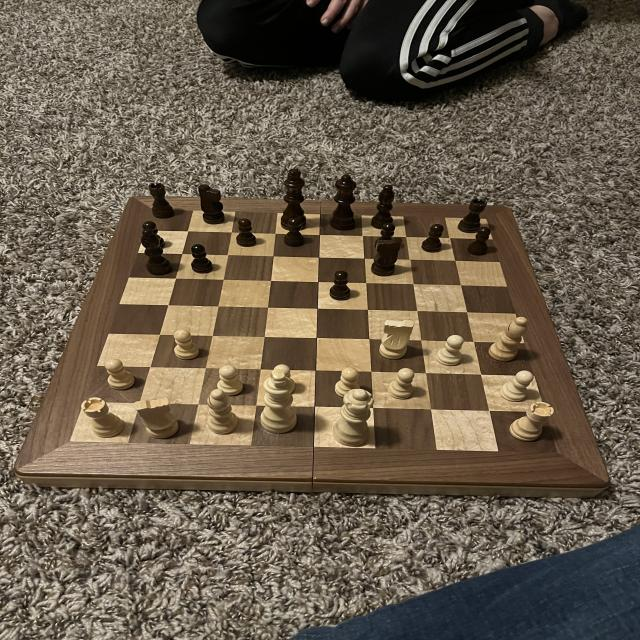bishop: (137, 226, 176, 276), (369, 184, 401, 231)
black-bishop: (278, 166, 309, 233)
black-king: (192, 183, 234, 228), (367, 235, 406, 278)
black-knight: (324, 271, 357, 303), (465, 225, 496, 259), (279, 216, 310, 250), (370, 221, 400, 252), (186, 242, 215, 274), (140, 218, 170, 248), (233, 217, 262, 248), (421, 223, 449, 254)
black-pawn: (326, 174, 364, 231)
black-queen: (457, 197, 487, 236), (148, 182, 175, 220)
black-rook: (484, 315, 533, 363), (202, 388, 245, 440)
white-bishop: (260, 373, 306, 437)
white-king: (135, 395, 182, 440), (377, 316, 418, 361)
white-knight: (330, 364, 367, 402), (497, 368, 537, 402), (433, 334, 468, 371), (386, 366, 420, 402), (169, 328, 205, 362), (101, 357, 135, 390), (214, 364, 249, 396), (268, 362, 300, 396)
white-pawn: (329, 387, 376, 449)
white-queen: (505, 399, 559, 445), (78, 397, 130, 439)
